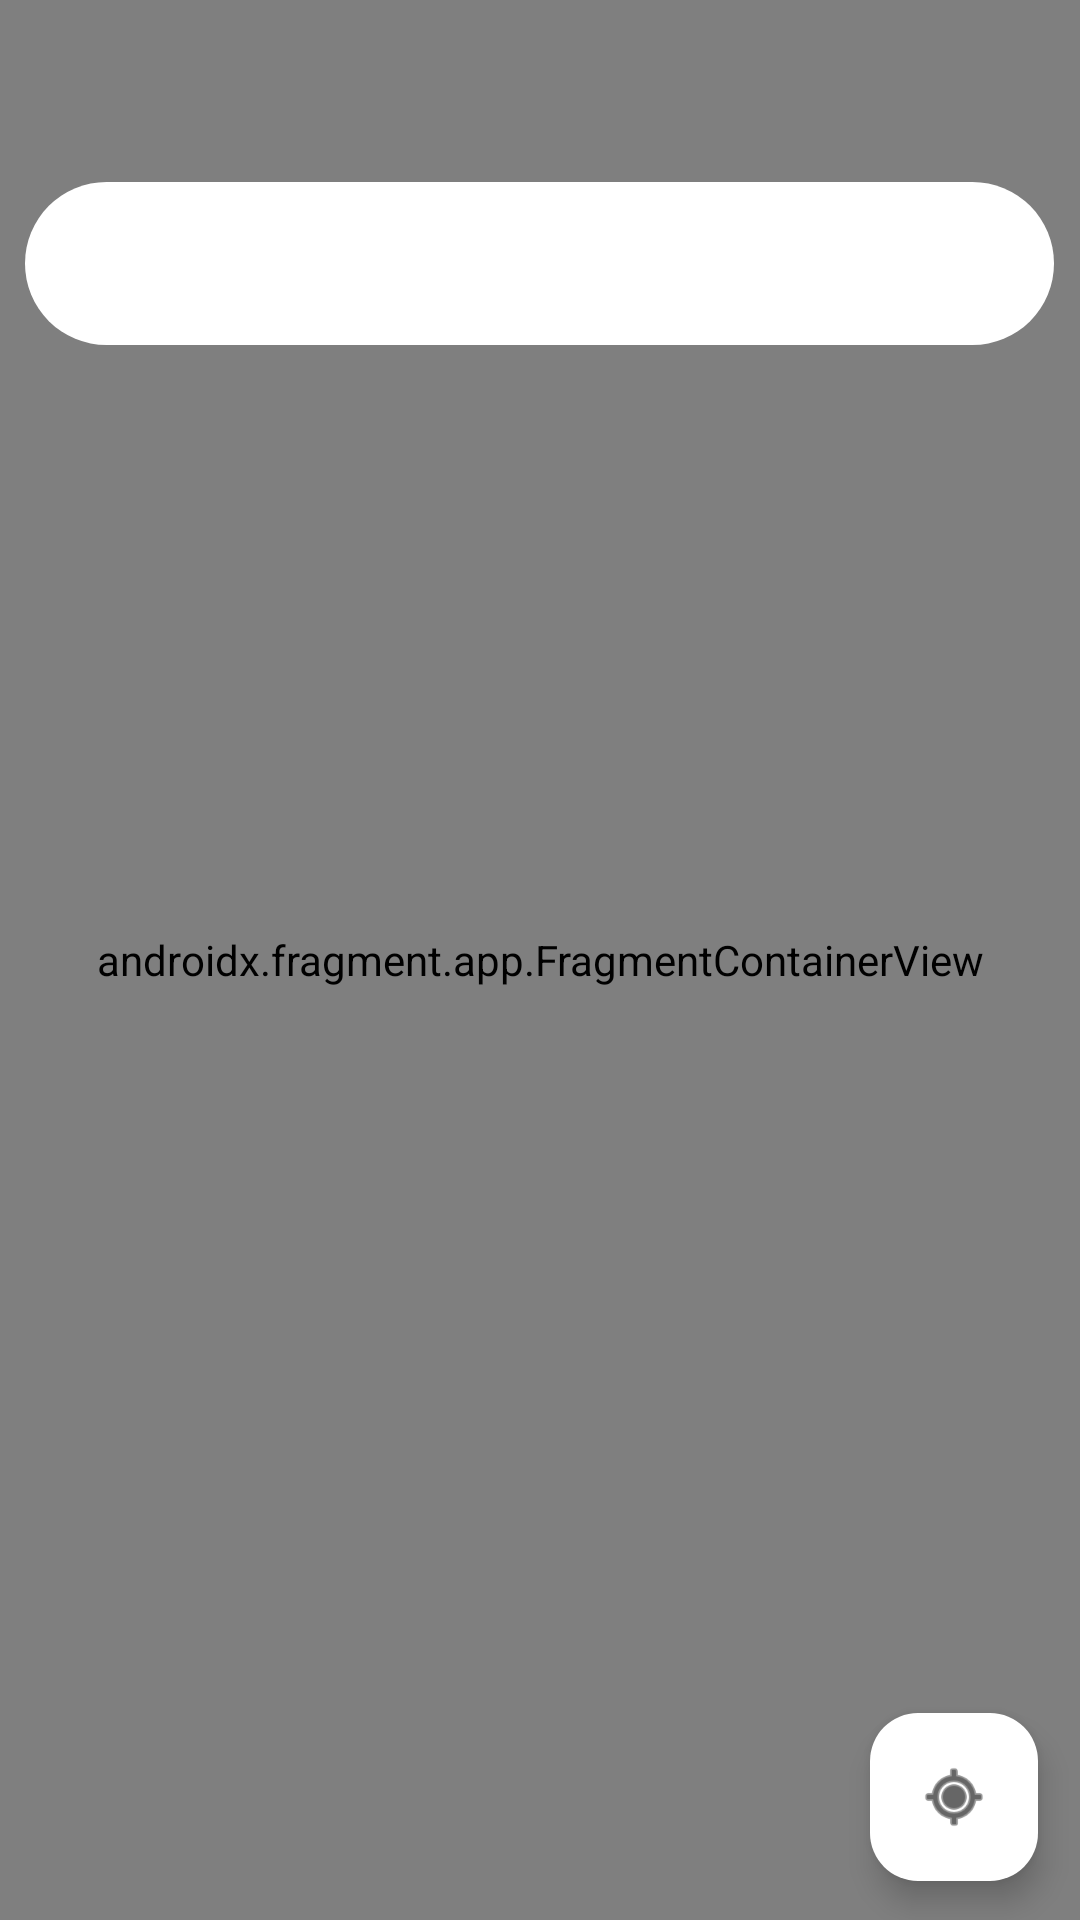

Named icons in this screenshot (1080px x 1920px) and their bounding boxes, {"left": x1, "top": y1, "right": x2, "bottom": y2}:
mylocation: {"left": 870, "top": 1713, "right": 1038, "bottom": 1881}
